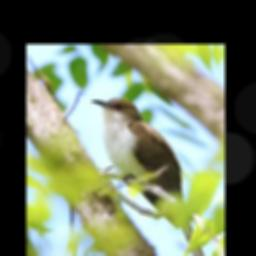Cuckoo: (91, 95, 218, 256)
